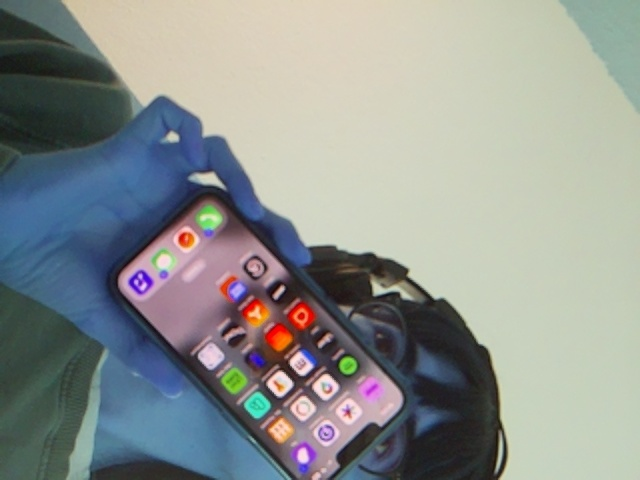cell phone: (90, 188, 422, 478)
